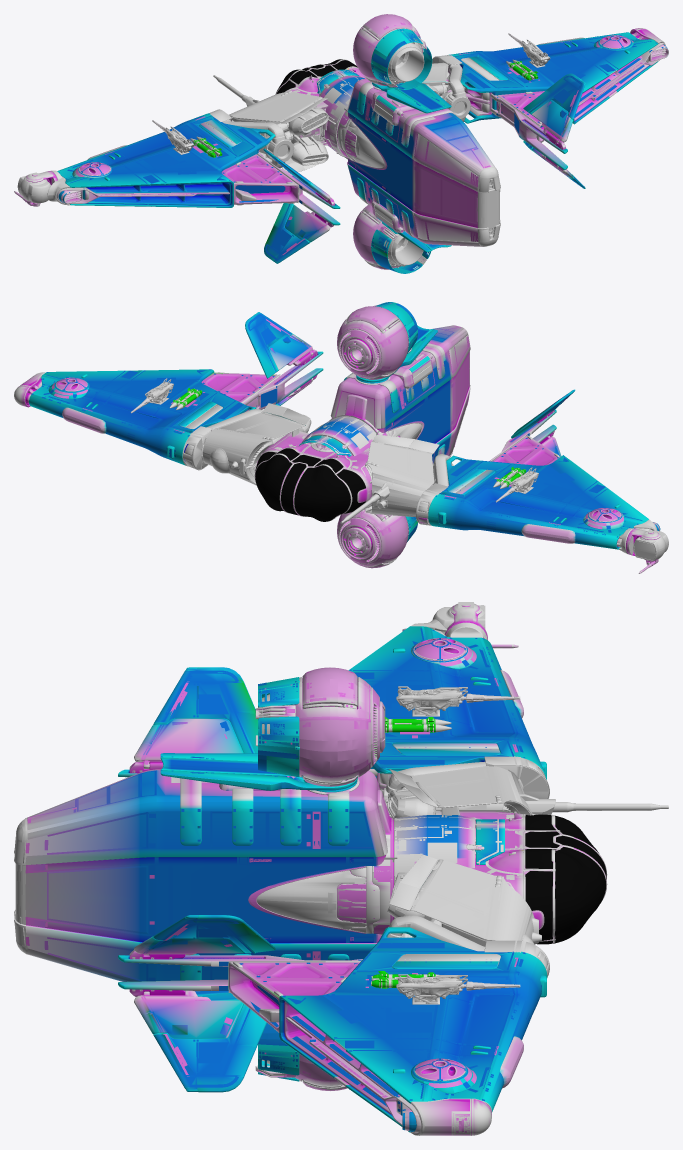
The picture shows the model from 3 angles, top to bottom: view 1: azimuth 30°, elevation 25°; view 2: azimuth 150°, elevation 25°; view 3: azimuth 270°, elevation 25°; orthographic projection. The views are drawn at different scales.
Parts seen in each view (by area): view 1: Body.001, Cockpit_Glass_Exterior; view 2: Body.001, Cockpit_Glass_Exterior; view 3: Body.001, Cockpit_Glass_Exterior.
Part boxes in pixels (<box>): Body.001: <box>14,14,668,273</box>; Cockpit_Glass_Exterior: <box>276,59,357,93</box>; Body.001: <box>14,302,668,573</box>; Cockpit_Glass_Exterior: <box>255,448,365,521</box>; Body.001: <box>14,602,668,1135</box>; Cockpit_Glass_Exterior: <box>525,814,606,944</box>.
Bounding box in the file's own units: 87.21 × 32.9 × 47.34.
